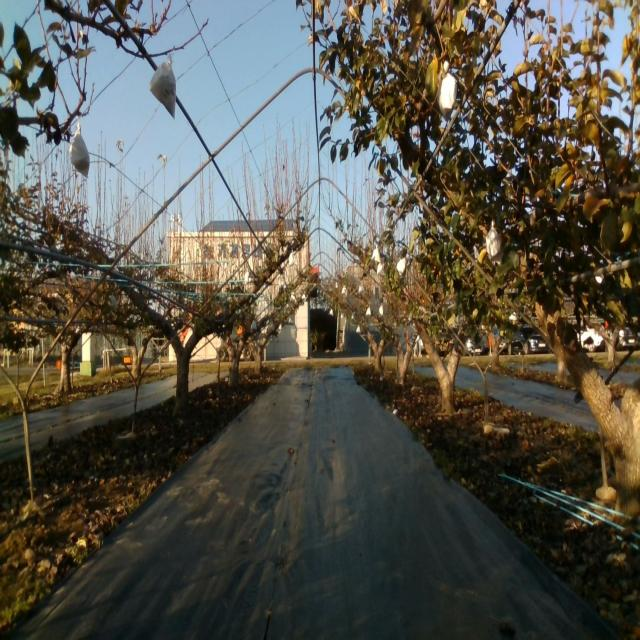pearbags: (146, 48, 180, 119), (67, 124, 91, 182), (438, 72, 458, 118), (485, 227, 501, 266)
